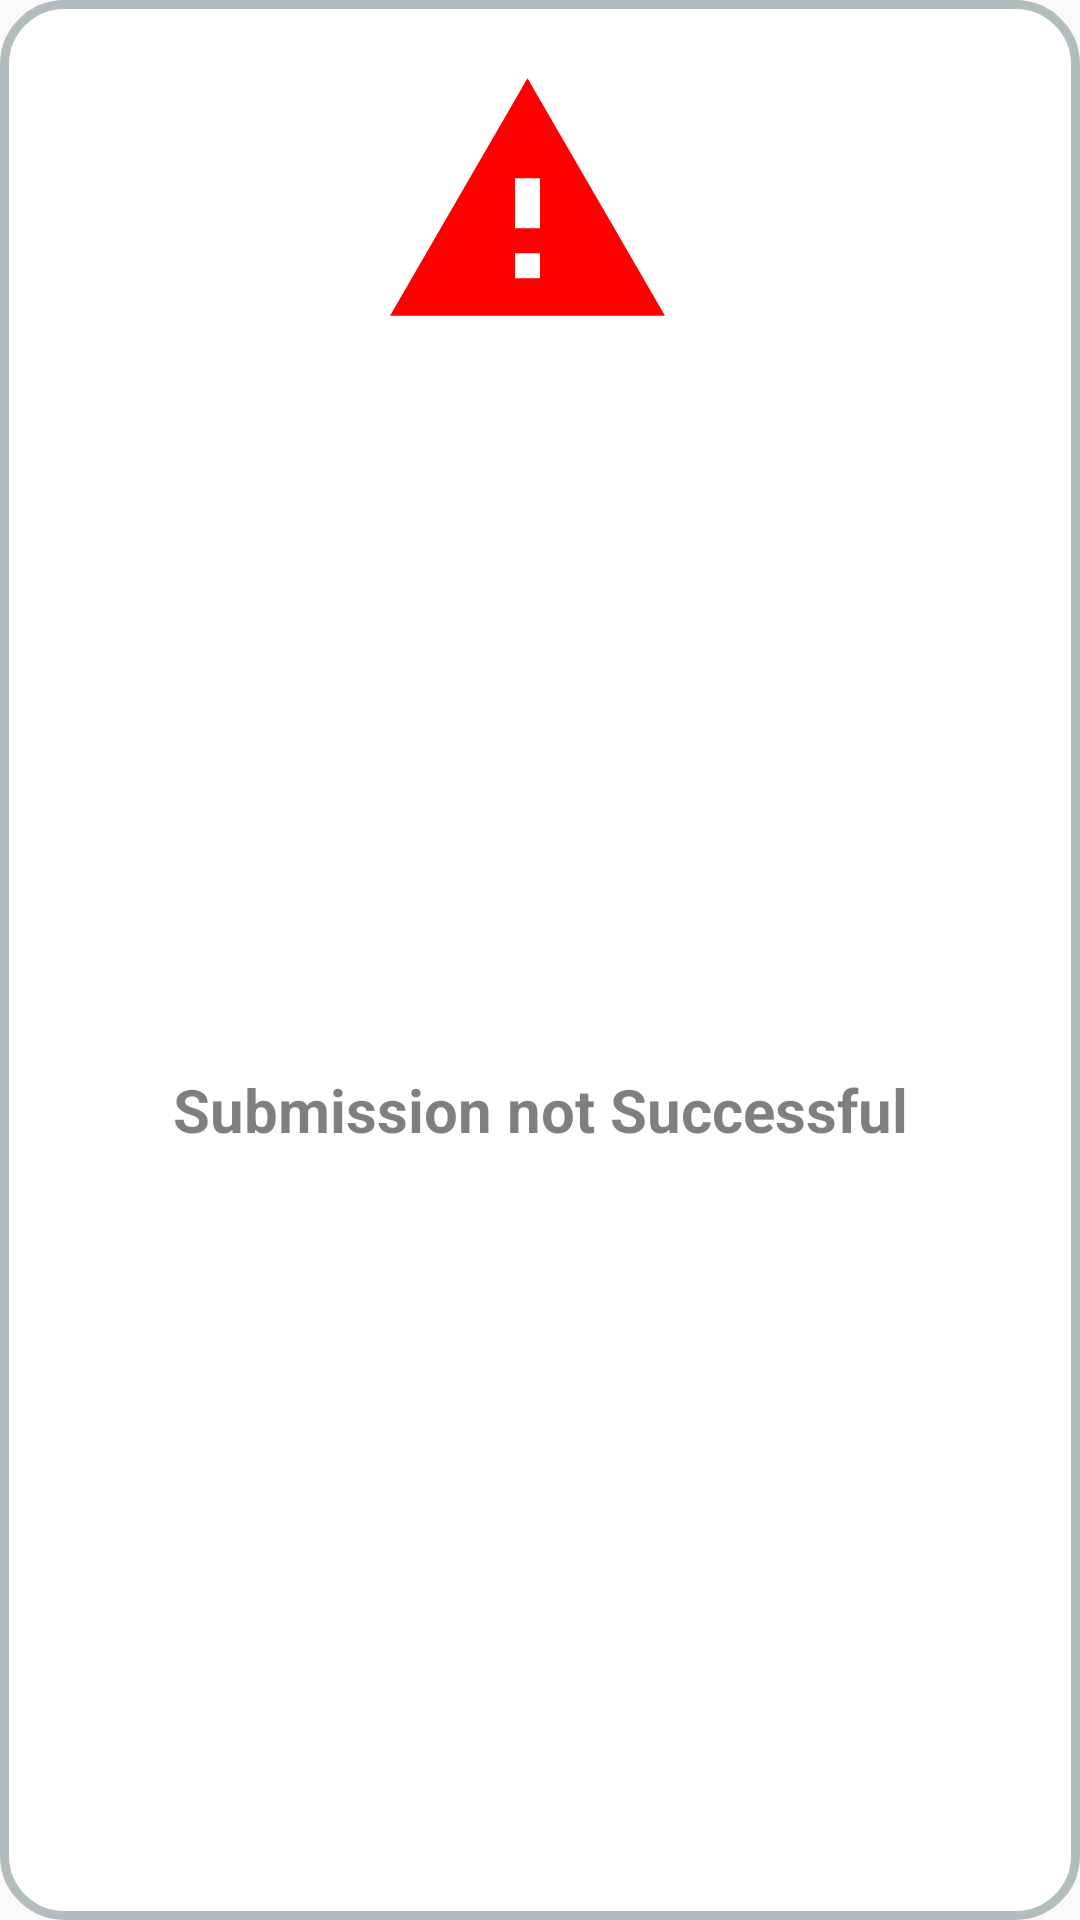

Icon click points for this 1080x1920 phone screenshot, format (x=x, y=y):
submit fail: (x=527, y=197)
